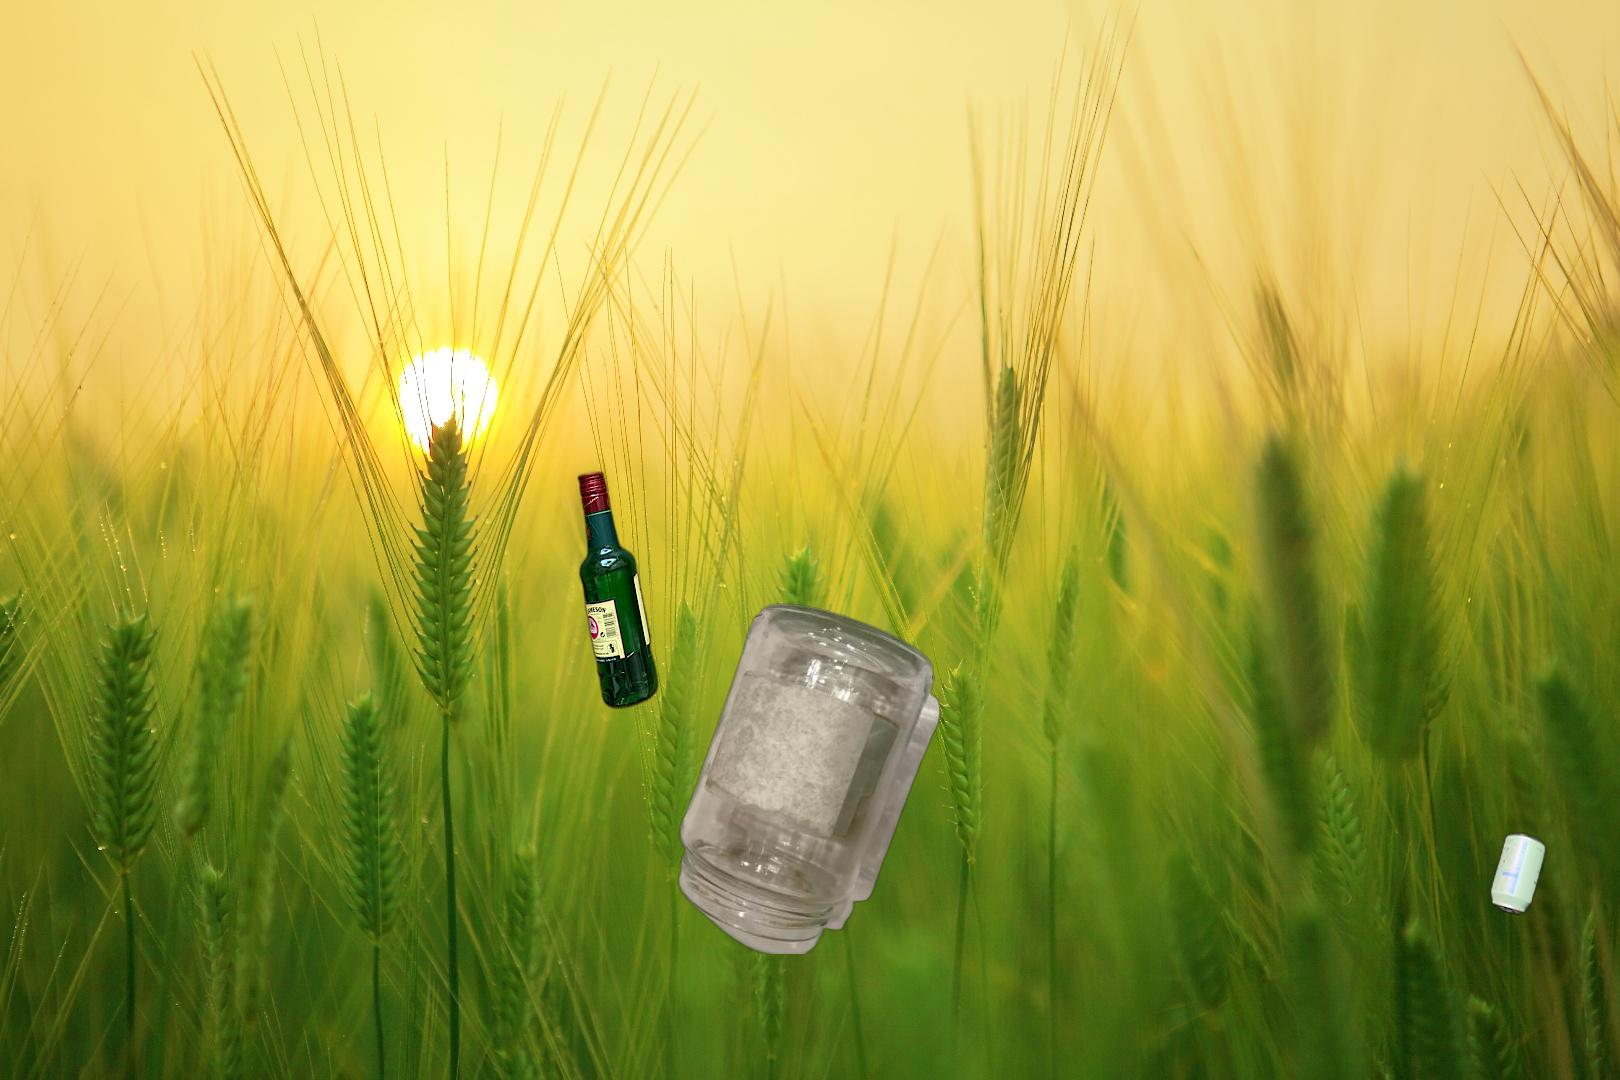glass: (573, 442, 965, 714), (674, 601, 945, 953)
metal-cans: (1486, 827, 1550, 921)
